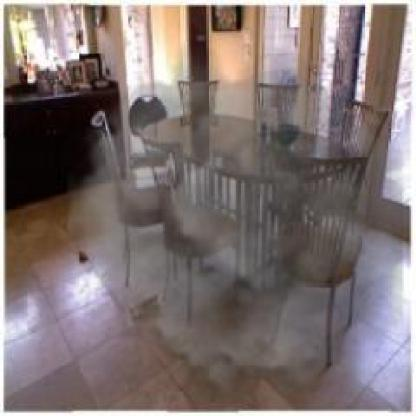Smoke: (67, 41, 403, 406)
